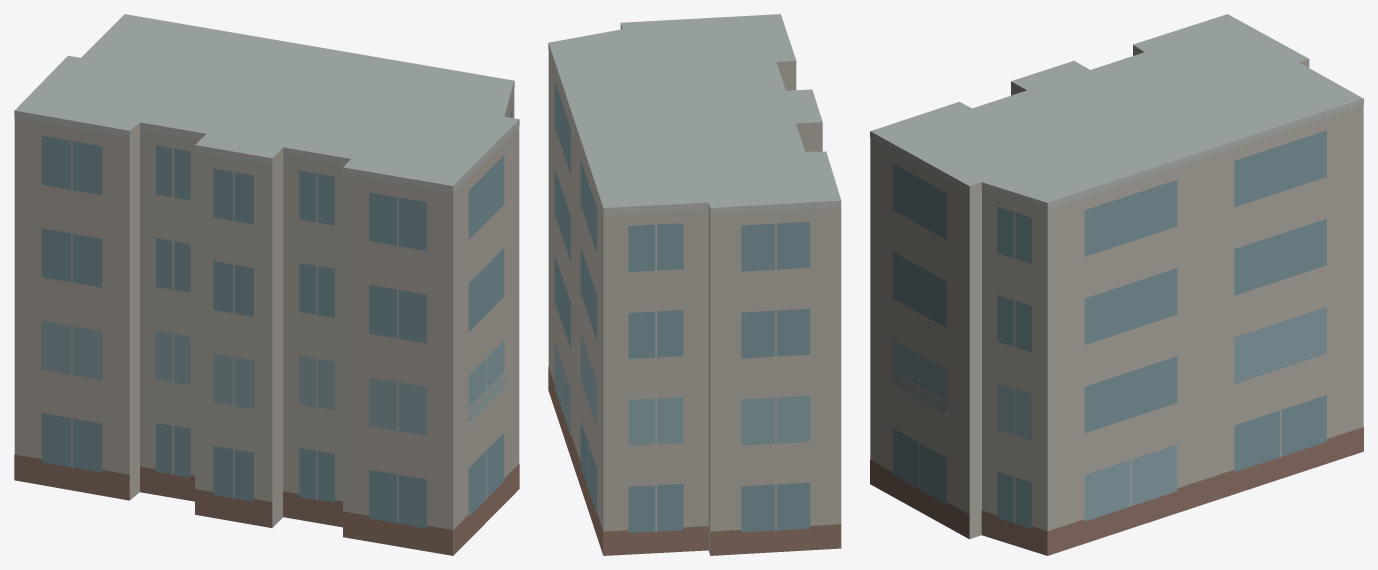
Rendered from survey-upis-32696941.glb.
3 renders of one model, left to right at view 1: azimuth 30°, elevation 25°; view 2: azimuth 150°, elevation 25°; view 3: azimuth 270°, elevation 25°, orthographic. The views are drawn at different scales.
Visible parts, largest first — view 1: survey-upis-32696941.tmp; view 2: survey-upis-32696941.tmp; view 3: survey-upis-32696941.tmp.
Part boxes in pixels (<box>): survey-upis-32696941.tmp: <box>14,14,519,555</box>; survey-upis-32696941.tmp: <box>548,14,841,555</box>; survey-upis-32696941.tmp: <box>870,14,1363,555</box>.
Size of the model in its own units: 14.81 by 12.9 by 16.35.
